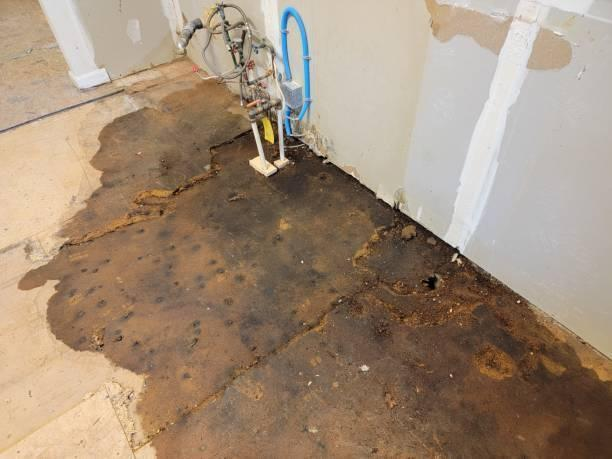water accumulation: (19, 71, 612, 459)
